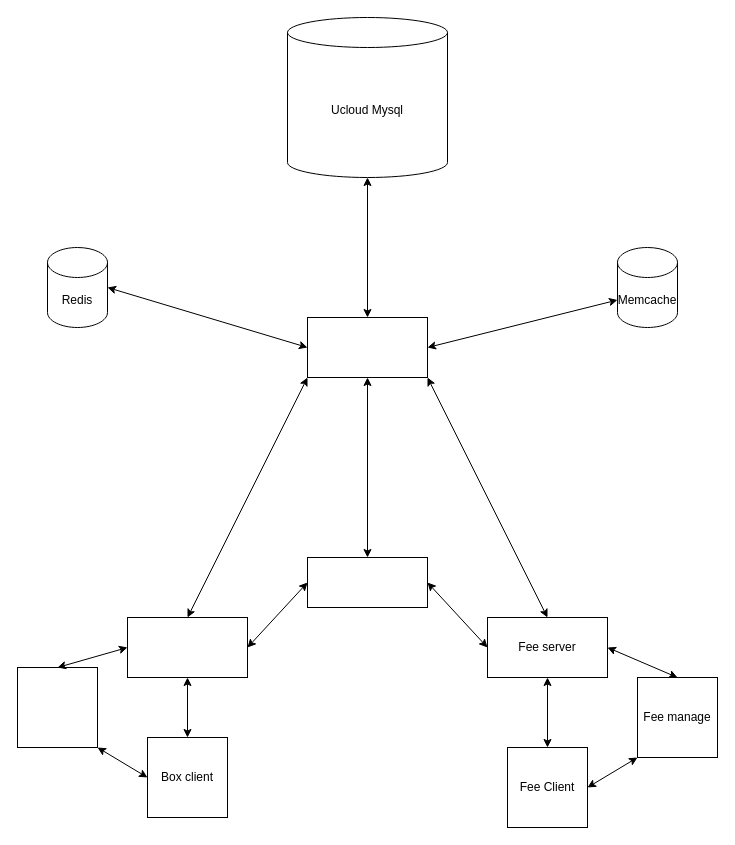
The diagram is 735 pixels wide and 845 high, and some of its shapes have lost their labels. The box of each missing label's shape, as (x1, y1, x2, y2) in pixels:
Box Manage: (16, 666, 98, 748)
Box server: (126, 616, 248, 678)
Transt server: (306, 556, 428, 608)
Web (UI + API): (306, 316, 428, 378)
